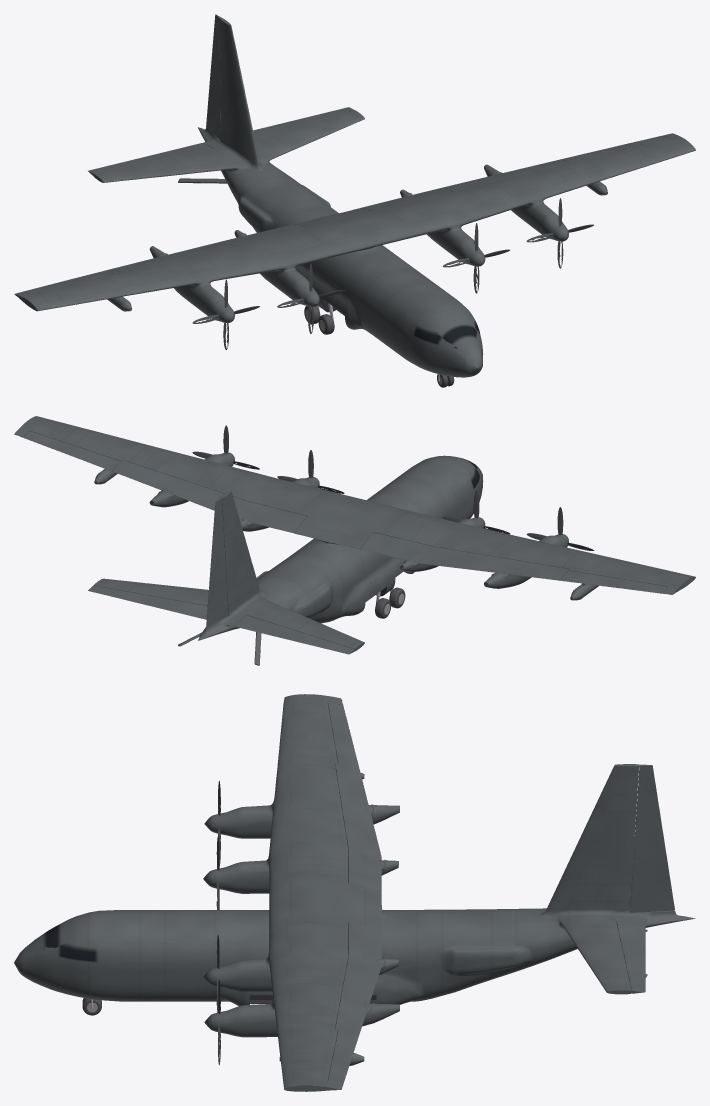
3 views of the same model, one above another, from view 1: azimuth 30°, elevation 25°; view 2: azimuth 150°, elevation 25°; view 3: azimuth 270°, elevation 25° (orthographic). The views are drawn at different scales.
Visible parts, largest first — view 1: airframe, fsim:flaps (×2), fsim:elevator (×2), fsim:rudder; view 2: airframe, fsim:flaps (×2), fsim:elevator (×2), fsim:aileron (×2), fsim:rudder; view 3: airframe, fsim:flaps (×2), fsim:rudder, fsim:aileron (×2), fsim:elevator.
Part boxes in pixels (x1=…): airframe: x1=14, y1=18, x2=695, y2=377; fsim:flaps (×2): x1=112, y1=159, x2=568, y2=271; fsim:elevator (×2): x1=88, y1=107, x2=353, y2=175; fsim:rudder: x1=206, y1=14, x2=221, y2=140; airframe: x1=14, y1=416, x2=695, y2=665; fsim:flaps (×2): x1=112, y1=460, x2=569, y2=580; fsim:elevator (×2): x1=88, y1=585, x2=354, y2=654; fsim:aileron (×2): x1=23, y1=431, x2=667, y2=593; fsim:rudder: x1=206, y1=498, x2=228, y2=627; airframe: x1=14, y1=694, x2=695, y2=1091; fsim:flaps (×2): x1=335, y1=763, x2=381, y2=1034; fsim:rudder: x1=630, y1=764, x2=674, y2=912; fsim:aileron (×2): x1=328, y1=702, x2=359, y2=1084; fsim:elevator: x1=616, y1=920, x2=645, y2=993.
Size of the model in its own units: 40.42 by 11.95 by 29.76.
Materials: 5 (1 with a texture image).
